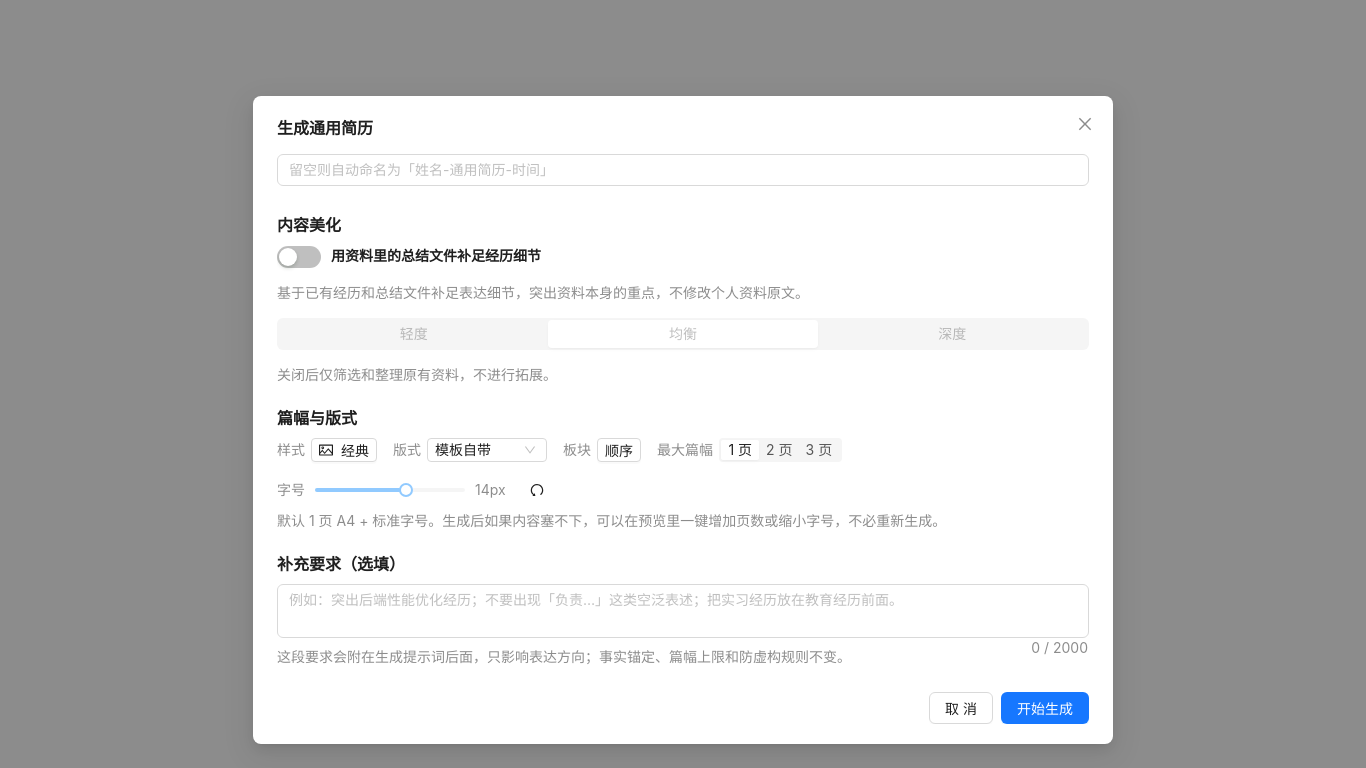
Test: GenerateResumeModal 生成进度条 › renders a stage bar and a live received-character counter from the polled task
(page scrolled)
Step 1. Click the button "开始生成" → x=1045, y=708, box [1001,692,1089,724]
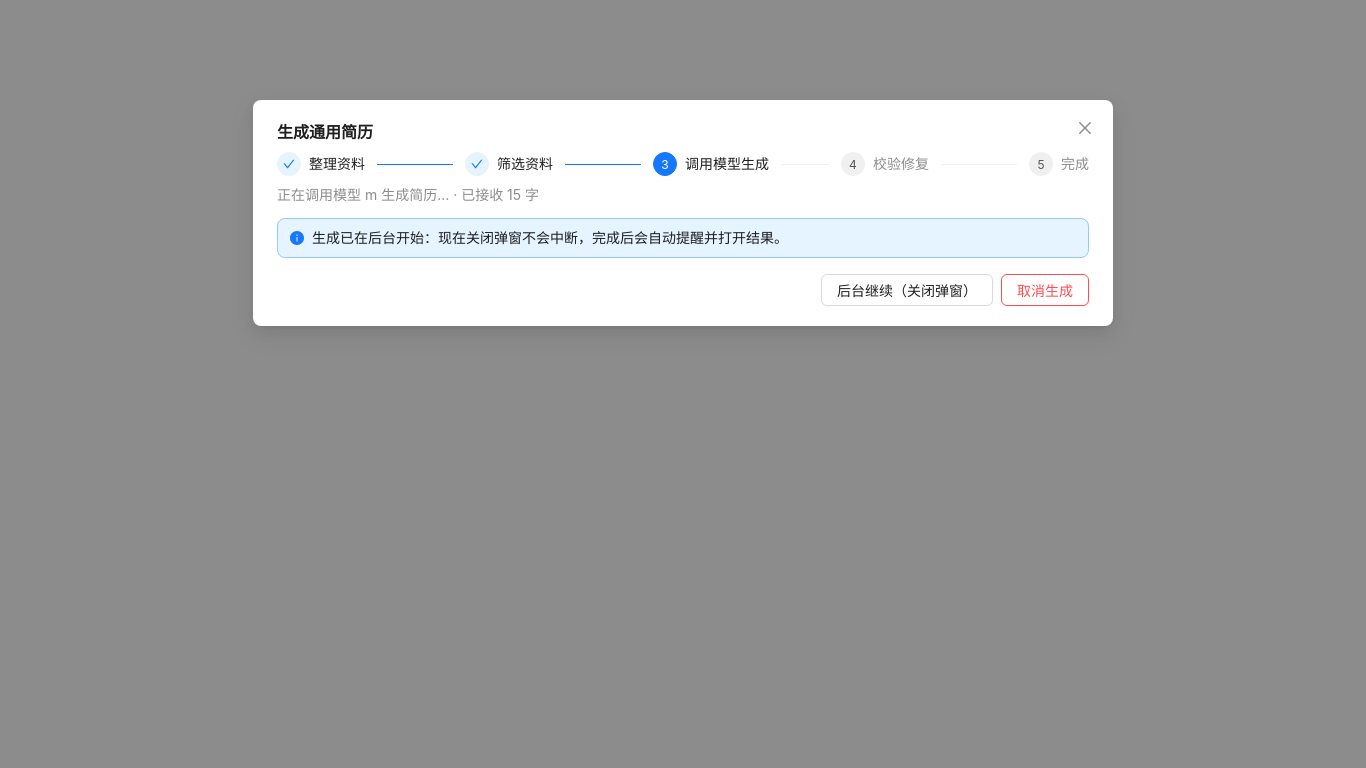
Now the text "整理资料" is shown, box [309,152,377,176]
Now the text "筛选资料" is shown, box [497,152,565,176]
Now the text "调用模型生成" is shown, box [685,152,781,176]
